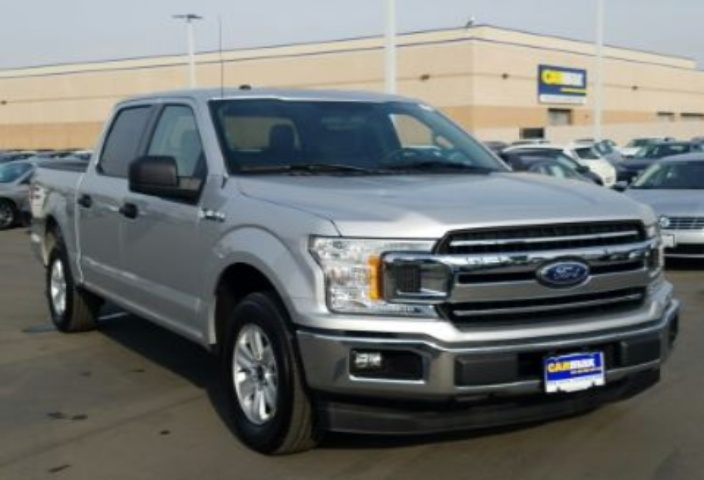camper: (15, 69, 677, 452)
